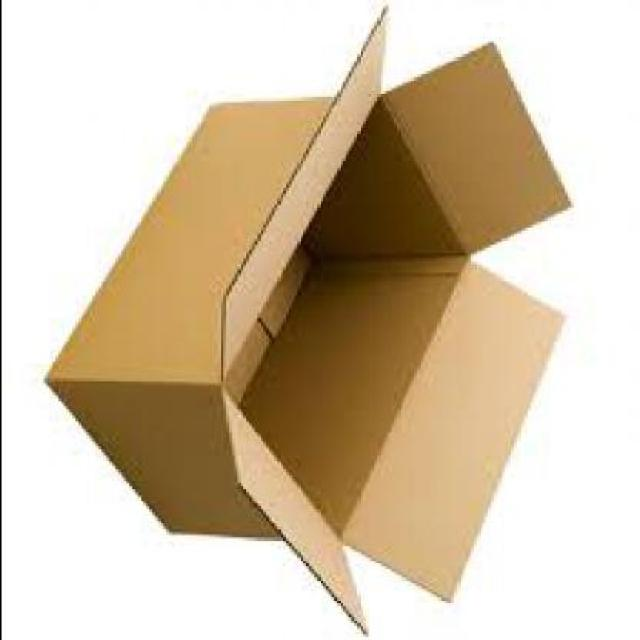CARDBOARD: (46, 3, 574, 631)
